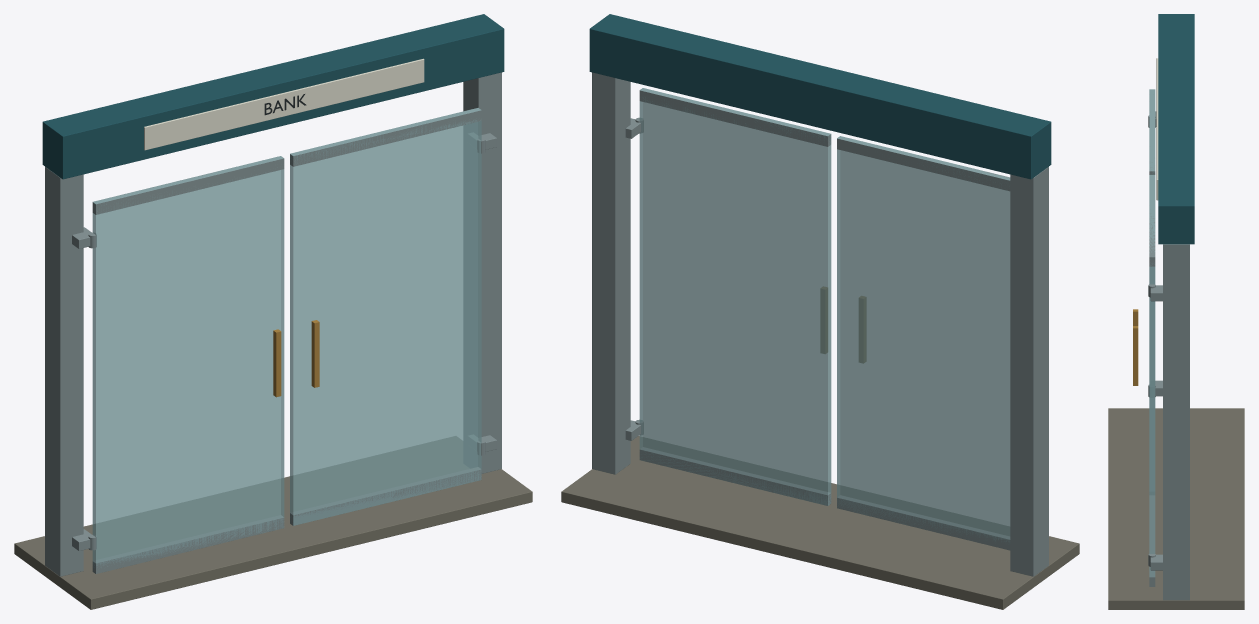
File: bank-branch-entrance.glb
3 views of the same model, side by side, from view 1: azimuth 30°, elevation 25°; view 2: azimuth 150°, elevation 25°; view 3: azimuth 270°, elevation 25° (orthographic). The views are drawn at different scales.
Parts seen in each view (by area): view 1: Leaf.001, Leaf, Threshold, Header, Frame_Jamb, Frame_Jamb.001, Replaceable_Branch_Sign, Door_Rail.001, Door_Rail, Door_Rail.003, Door_Rail.002; view 2: Leaf.001, Leaf, Threshold, Header, Frame_Jamb, Frame_Jamb.001, Door_Rail.003, Door_Rail.002, Door_Rail.001, Door_Rail; view 3: Threshold, Frame_Jamb.001, Header, Leaf.001, Door_Rail.003, Leaf, Door_Rail.001, Door_Rail.002, Replaceable_Branch_Sign, Handle.001.
Part boxes in pixels (x1,y1,x2,y2): Leaf.001: (290, 108, 481, 525); Leaf: (92, 156, 284, 568); Threshold: (14, 436, 532, 609); Header: (42, 14, 504, 179); Frame_Jamb: (45, 167, 83, 576); Frame_Jamb.001: (463, 72, 501, 473); Replaceable_Branch_Sign: (144, 58, 424, 150); Door_Rail.001: (92, 156, 284, 214); Door_Rail: (92, 515, 284, 573); Door_Rail.003: (290, 108, 481, 166); Door_Rail.002: (290, 467, 481, 525); Leaf.001: (639, 88, 831, 505); Leaf: (837, 136, 1010, 542); Threshold: (561, 436, 1079, 609); Header: (589, 14, 1051, 179); Frame_Jamb: (1010, 167, 1048, 576); Frame_Jamb.001: (592, 72, 630, 474); Door_Rail.003: (639, 88, 831, 146); Door_Rail.002: (639, 447, 831, 505); Door_Rail.001: (837, 136, 1010, 191); Door_Rail: (837, 495, 1010, 550); Threshold: (1108, 408, 1244, 609); Frame_Jamb.001: (1163, 244, 1189, 600); Header: (1158, 14, 1194, 244); Leaf.001: (1149, 175, 1155, 577); Door_Rail.003: (1149, 175, 1155, 266); Leaf: (1149, 89, 1155, 174); Door_Rail.001: (1149, 89, 1155, 174); Door_Rail.002: (1149, 495, 1155, 586); Replaceable_Branch_Sign: (1156, 58, 1158, 200); Handle.001: (1133, 326, 1138, 385).
Size of the model in its own units: 3 by 2.94 by 0.9.
